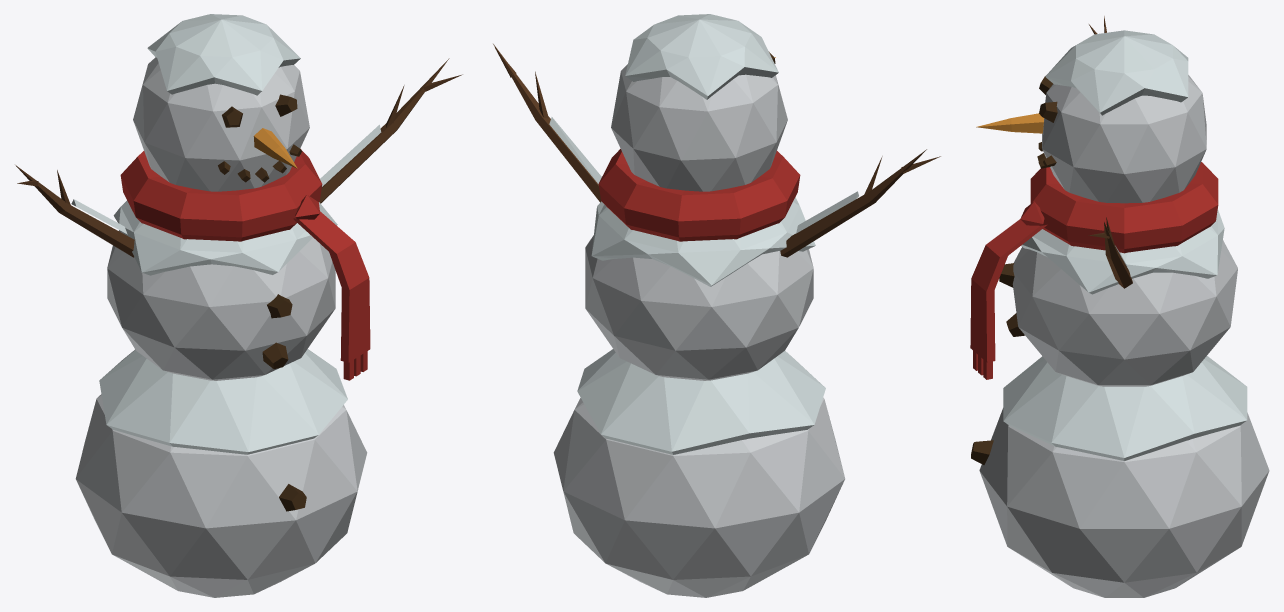
File: snowman-18c02d.glb
The picture shows the model from 3 angles, left to right: view 1: azimuth 30°, elevation 25°; view 2: azimuth 150°, elevation 25°; view 3: azimuth 270°, elevation 25°; orthographic projection. The views are drawn at different scales.
Visible parts, largest first — view 1: snowman-body, scarf-tail-mesh; view 2: snowman-body; view 3: snowman-body, scarf-tail-mesh.
Part boxes in pixels (box(x1,y1,x2,y2)): snowman-body: box(15, 14, 462, 597); scarf-tail-mesh: box(293, 211, 370, 380); snowman-body: box(493, 14, 940, 597); snowman-body: box(971, 16, 1269, 597); scarf-tail-mesh: box(970, 219, 1047, 379).
Size of the model in its own units: 1.21 by 1.43 by 0.7216.
